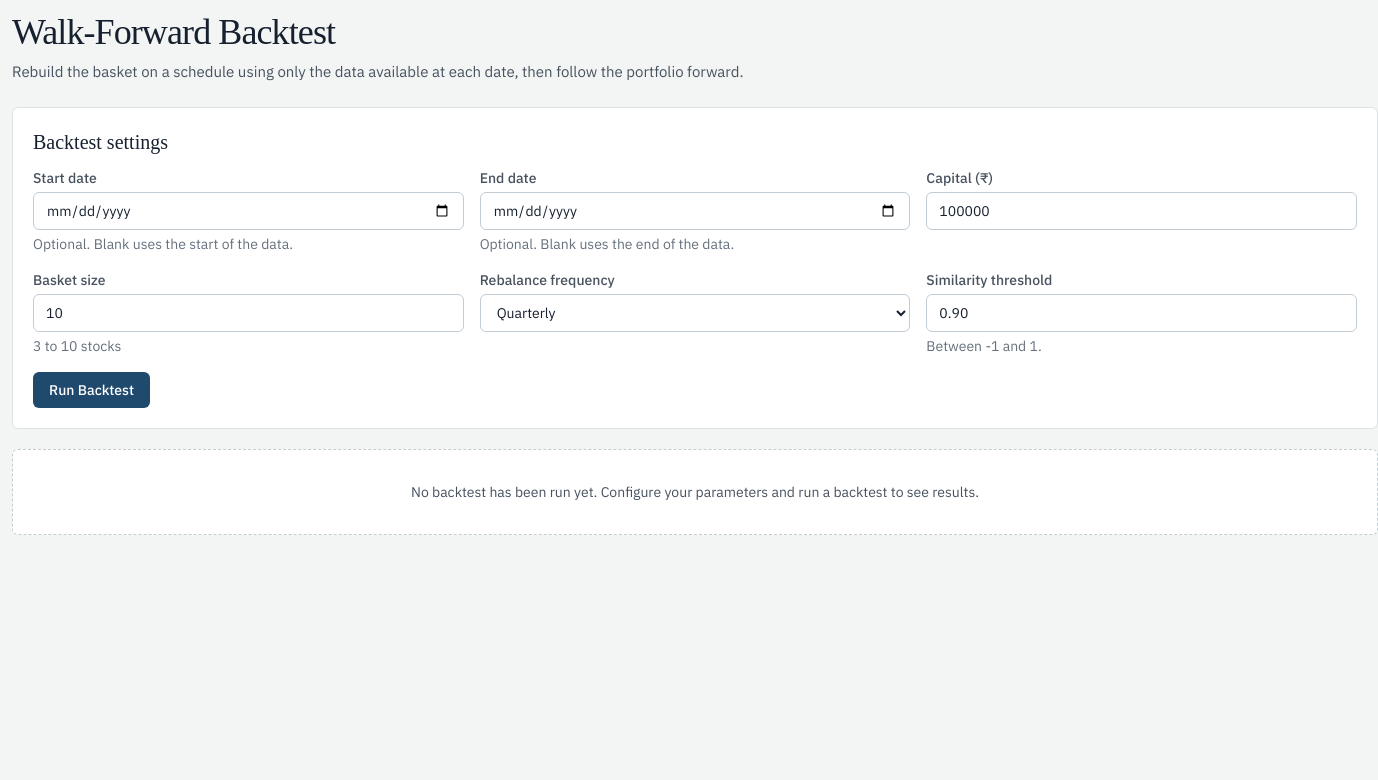
Test: Backtest page › shows the backend's message when a backtest is rejected
This screenshot has width=1378, height=780.
Click the button "Run Backtest" at x=92, y=390, box [33,372,150,408]
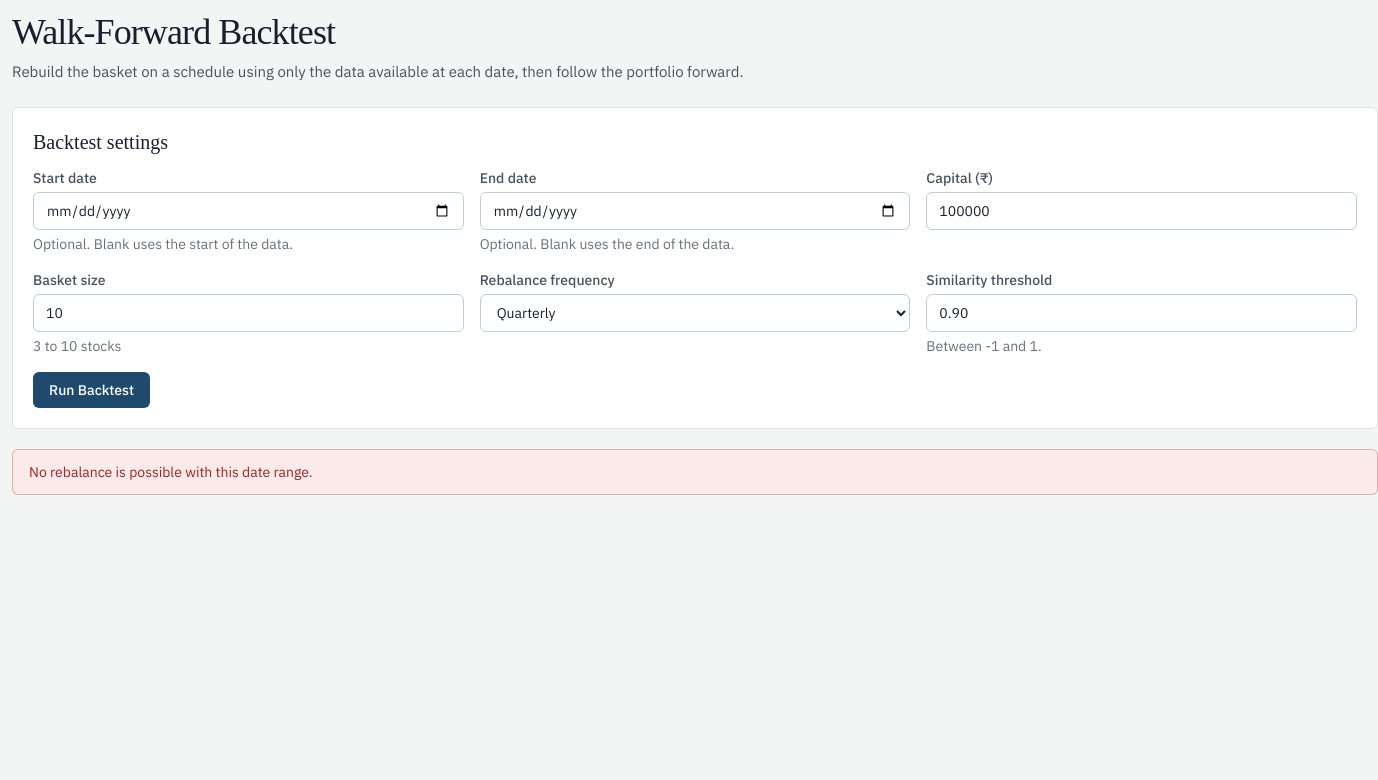
Result: the text "No rebalance is possible with this date range." is shown at [29,463,312,481]
